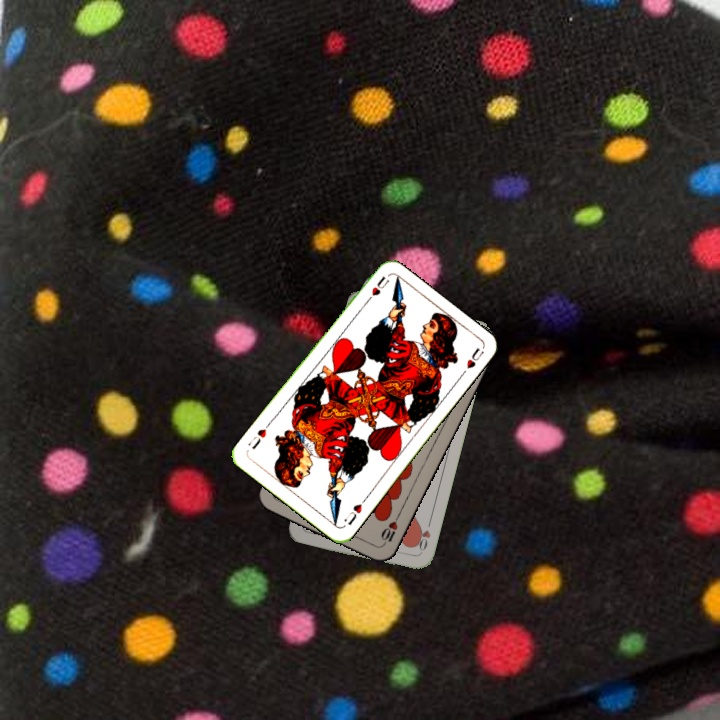H10: (377, 511, 402, 549)
HO: (412, 518, 433, 557)
HU: (361, 272, 392, 307), (344, 494, 369, 528)
